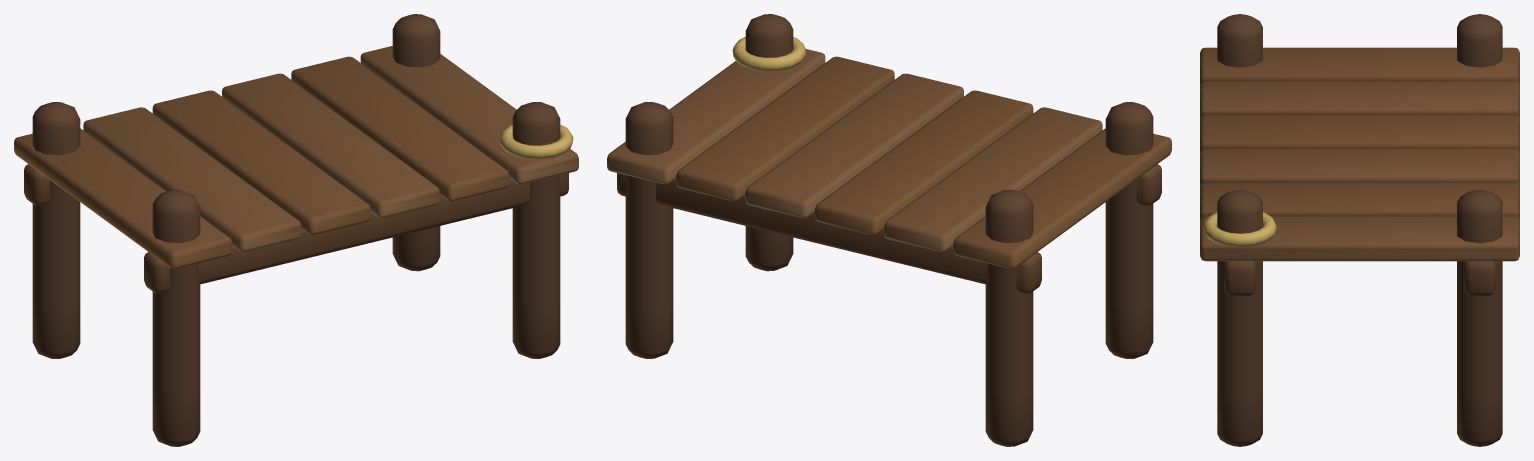
Rendered from steg.glb.
3 views of the same model, side by side, from view 1: azimuth 30°, elevation 25°; view 2: azimuth 150°, elevation 25°; view 3: azimuth 270°, elevation 25° (orthographic).
Visible parts, largest first — view 1: steg-matt; view 2: steg-matt; view 3: steg-matt.
Part boxes in pixels (bbox=[...]): steg-matt: bbox=[14, 14, 578, 446]; steg-matt: bbox=[607, 14, 1171, 446]; steg-matt: bbox=[1200, 14, 1519, 446].
Size of the model in its own units: 1.21 by 0.692 by 0.8.
